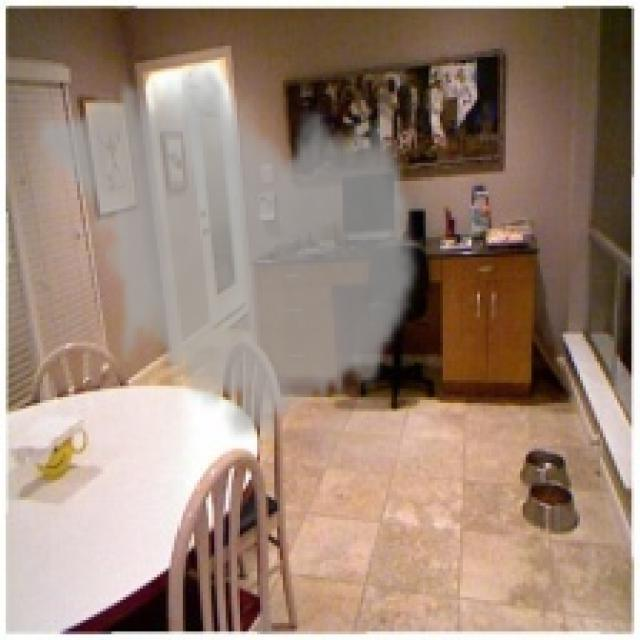Smoke: (34, 54, 423, 452)
